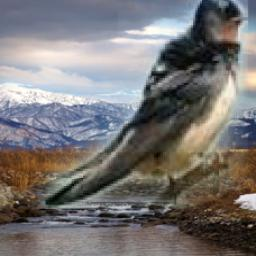Swallow: (0, 0, 248, 210)
